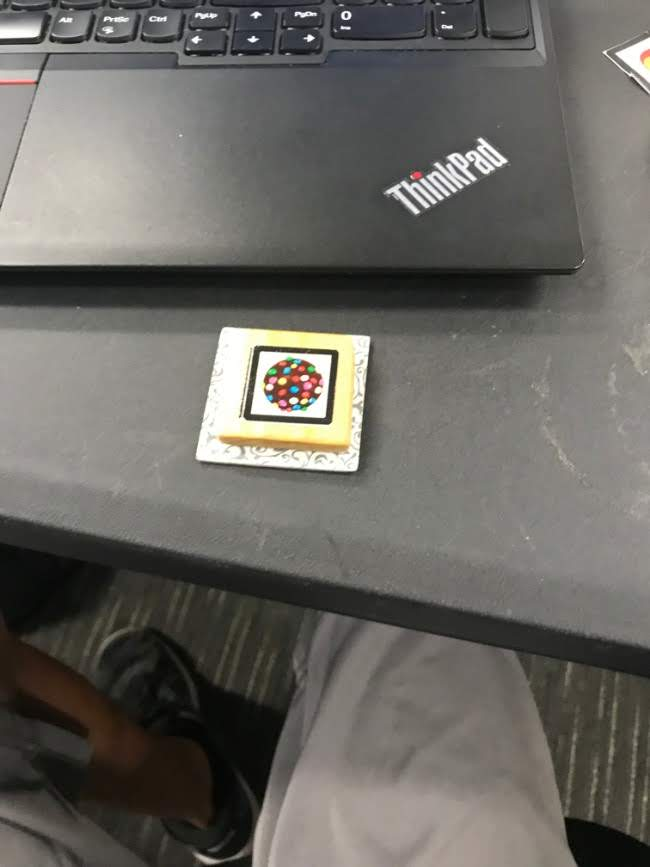cookie: (243, 343, 339, 424)
